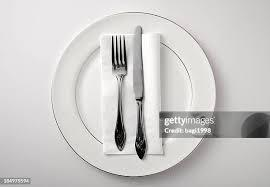Knife: (132, 25, 146, 159)
